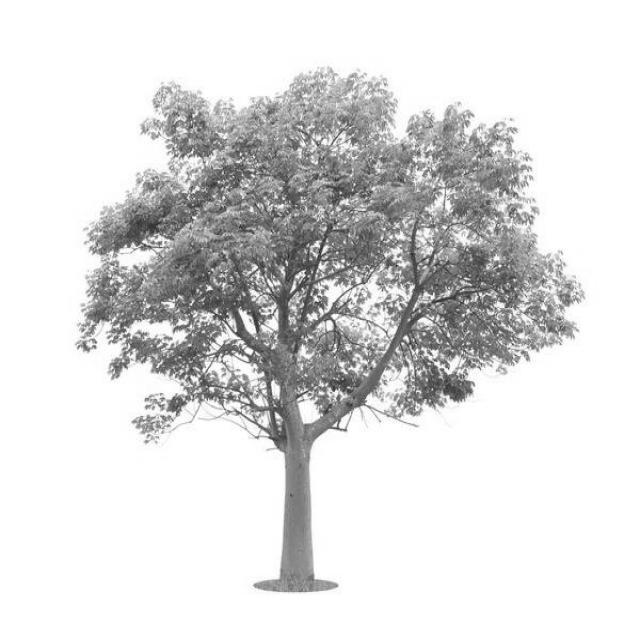Tree: (78, 69, 584, 582)
